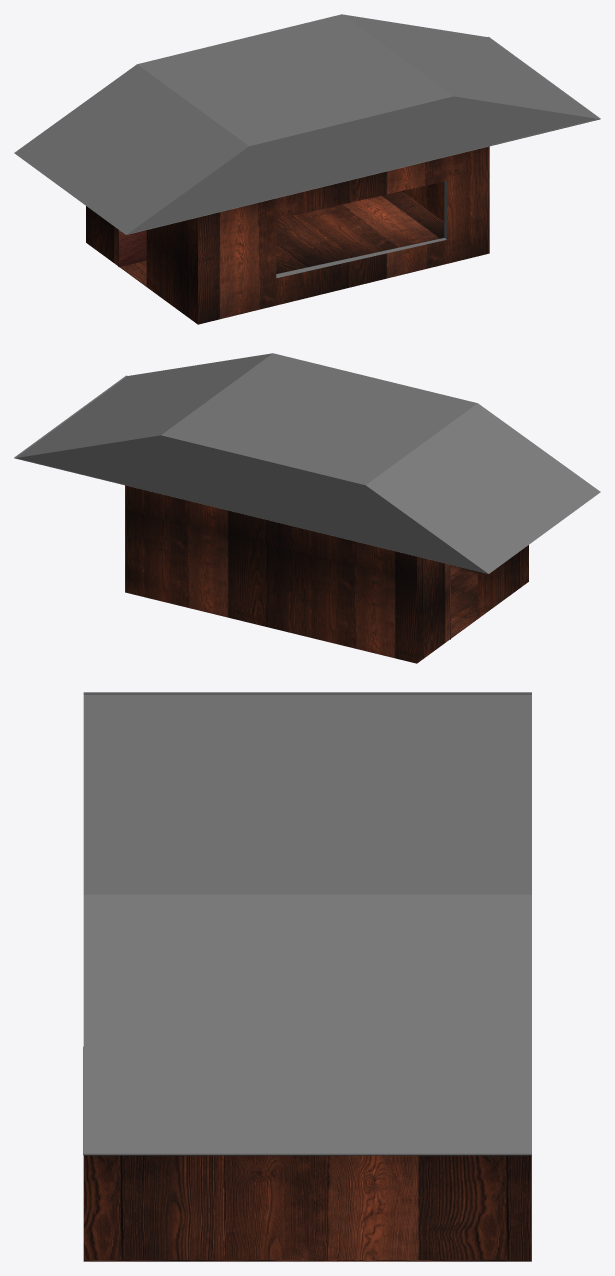
The model's file is casa2.glb.
The picture shows the model from 3 angles, top to bottom: view 1: azimuth 30°, elevation 25°; view 2: azimuth 150°, elevation 25°; view 3: azimuth 270°, elevation 25°; orthographic projection. The views are drawn at different scales.
Visible parts, largest first — view 1: Plane, Plane.001, Plane.002; view 2: Plane, Plane.001; view 3: Plane, Plane.001.
Part boxes in pixels (box(x1,y1,x2,y2)): Plane: box(14, 14, 600, 278); Plane.001: box(86, 146, 489, 324); Plane.002: box(118, 229, 146, 267); Plane: box(14, 353, 600, 663); Plane.001: box(125, 485, 528, 663); Plane: box(83, 692, 531, 1261); Plane.001: box(83, 1155, 531, 1261).
Size of the model in its own units: 9.28 by 3.1 by 3.8.
3 materials, 2 textured.
